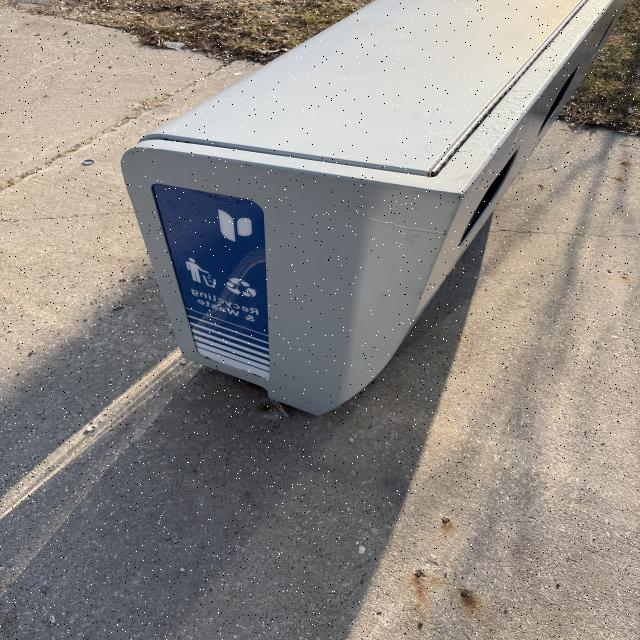Dustbin: (120, 1, 621, 417)
